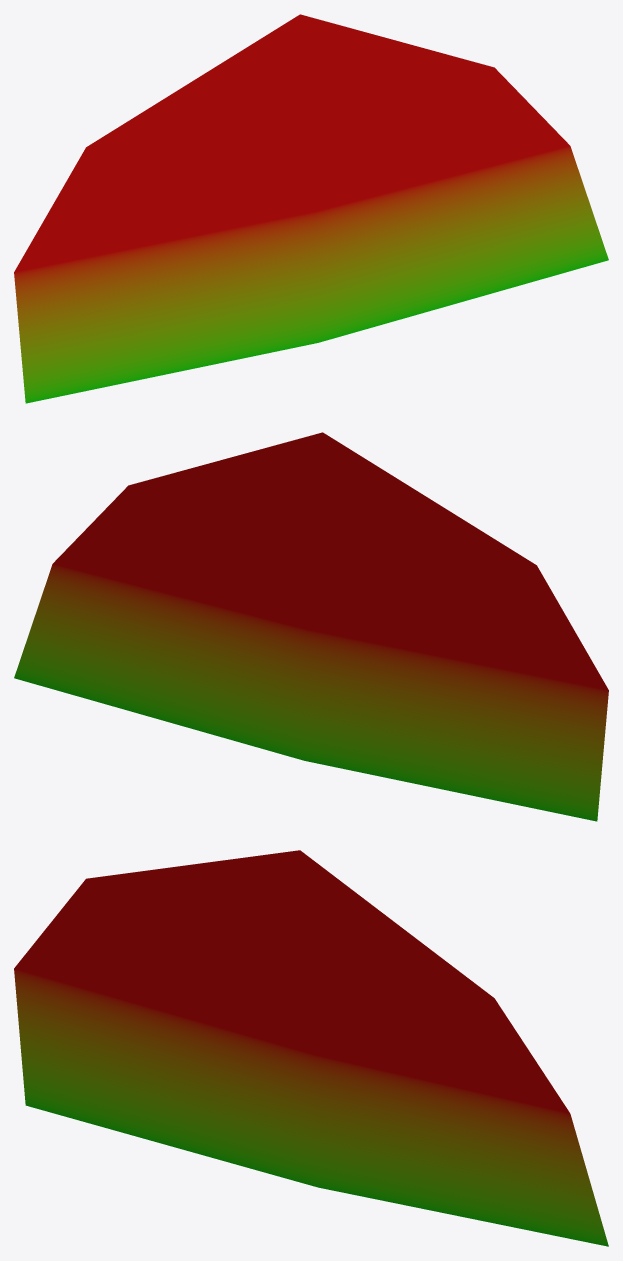
File: Wild Grass_LOD4_Var4_vczndjqja.fbx
The picture shows the model from 3 angles, top to bottom: view 1: azimuth 30°, elevation 25°; view 2: azimuth 150°, elevation 25°; view 3: azimuth 330°, elevation 25°; orthographic projection.
Parts seen in each view (by area): view 1: _96kf_Var4_LOD4; view 2: _96kf_Var4_LOD4; view 3: _96kf_Var4_LOD4.
Boxes of the visible parts, bbox=[...] form: _96kf_Var4_LOD4: bbox=[14, 14, 608, 403]; _96kf_Var4_LOD4: bbox=[14, 432, 608, 821]; _96kf_Var4_LOD4: bbox=[14, 850, 608, 1246].
Bounding box in the file's own units: 112 × 59.92 × 1.46e-10.
